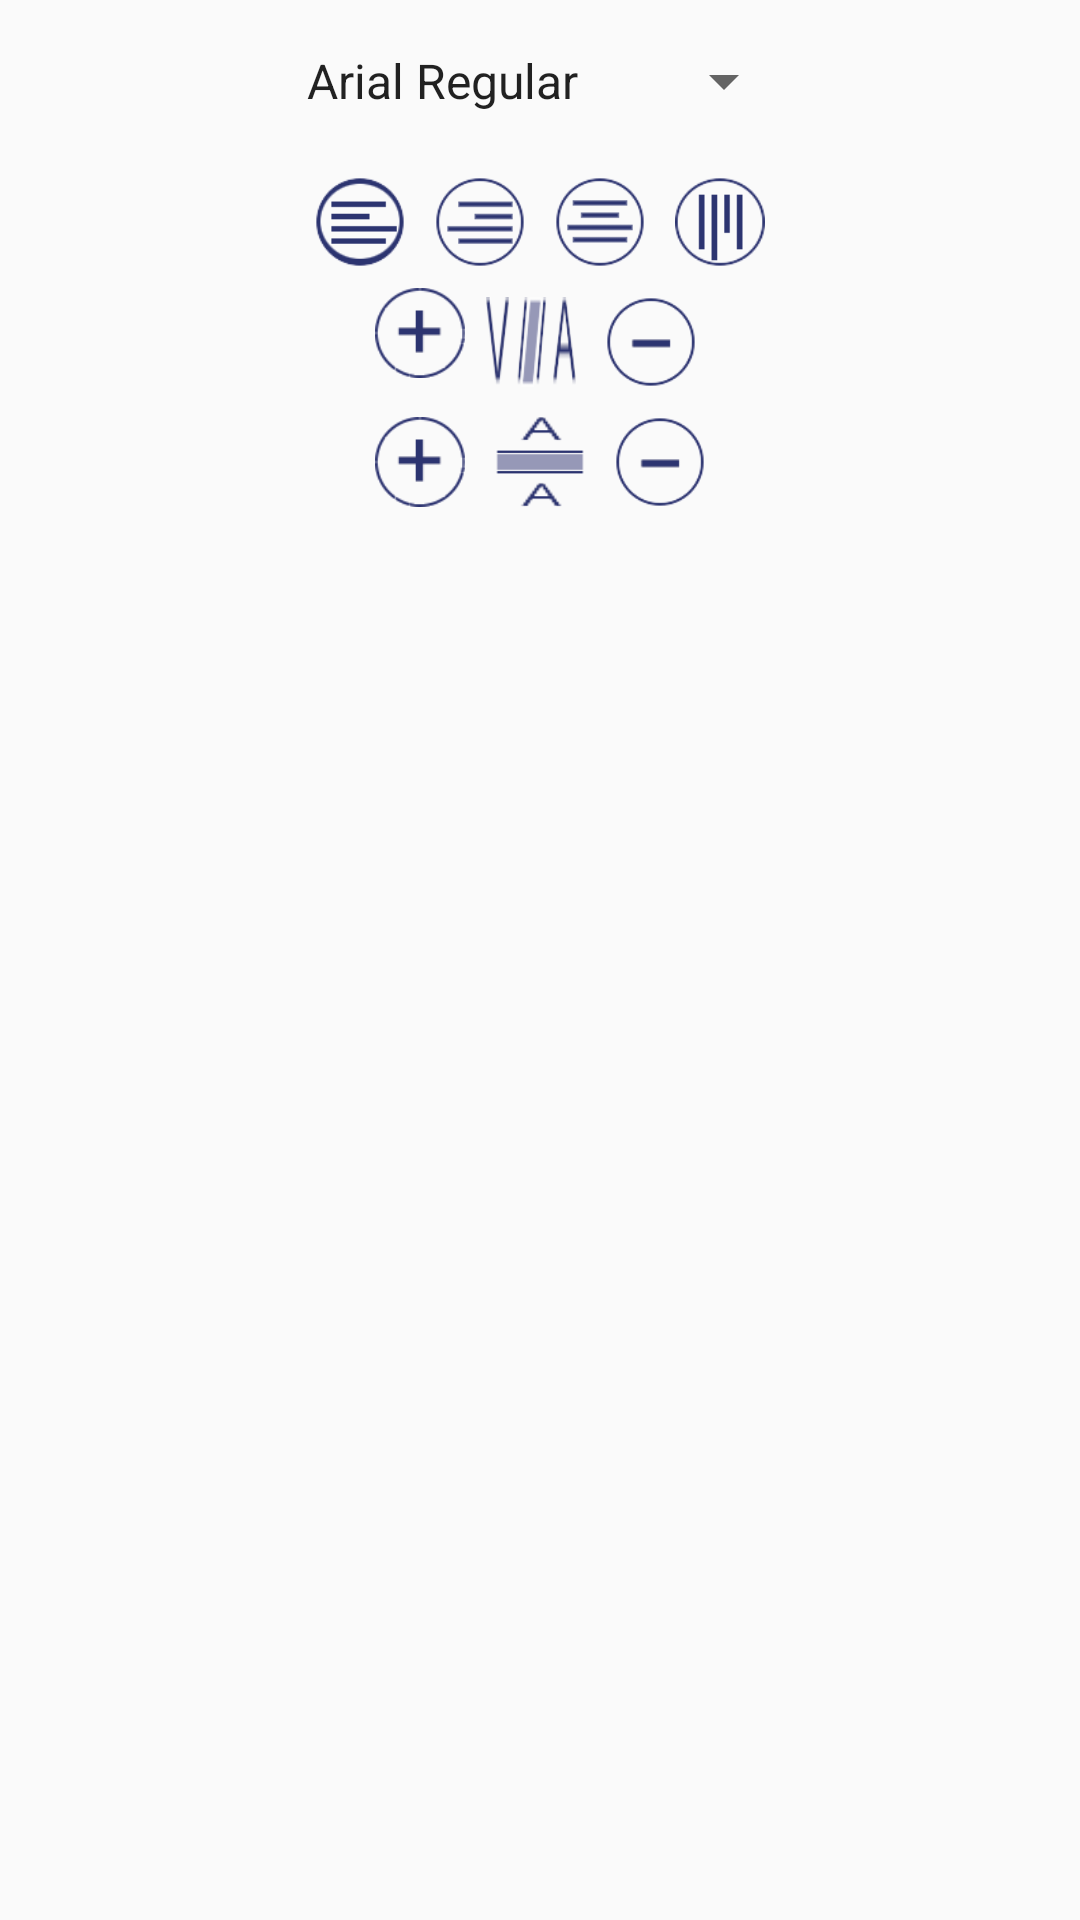

Point at icon controls on the screen. Image size 1080x1920, points as (x=x, y=y).
text add: (x=420, y=333), (x=420, y=462)
text align center: (x=600, y=222)
text align left: (x=360, y=222)
text align right: (x=480, y=222)
text align vertical: (x=720, y=222)
text reduce: (x=651, y=342), (x=660, y=462)
text vertical spacing: (x=540, y=461)
text word spacing: (x=531, y=340)
